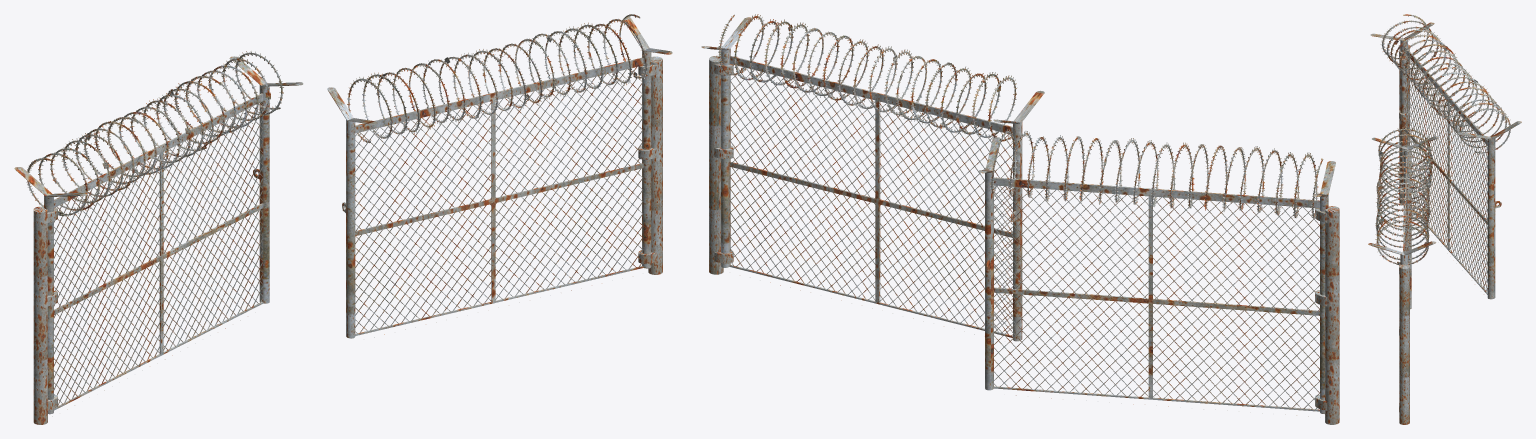
The model's file is military fence gate.obj.
3 views of the same model, side by side, from view 1: azimuth 30°, elevation 25°; view 2: azimuth 150°, elevation 25°; view 3: azimuth 270°, elevation 25° (orthographic). The views are drawn at different scales.
Parts seen in each view (by area): view 1: Cylinder288, Cylinder299, Cylinder233, Cylinder295, Cylinder300, Cylinder291, Spring323, Spring327, Spring324, Spring326, Spring321, Spring325 (+10 smaller); view 2: Cylinder299, Cylinder288, Cylinder233, Cylinder295, Cylinder300, Cylinder291, Spring316, Spring320, Spring318, Spring313, Spring315, Spring319 (+10 smaller); view 3: Cylinder299, Cylinder291, Cylinder300, Cylinder288, Spring325, Spring320, Spring315, Spring326, Spring323, Spring328, Spring324, Spring317 (+40 smaller).
Part boxes in pixels (box(x1,y1,x2,y2)): Cylinder288: box(327, 57, 643, 338); Cylinder299: box(54, 56, 303, 410); Cylinder233: box(355, 17, 672, 268); Cylinder295: box(33, 206, 47, 424); Cylinder300: box(14, 167, 263, 414); Cylinder291: box(648, 56, 662, 274); Spring323: box(83, 117, 157, 185); Spring327: box(54, 132, 130, 203); Spring324: box(162, 81, 236, 148); Spring326: box(185, 65, 259, 134); Spring321: box(106, 106, 181, 175); Spring325: box(209, 51, 283, 121); Cylinder299: box(978, 137, 1319, 411); Cylinder288: box(729, 56, 1044, 341); Cylinder233: box(701, 17, 1012, 267); Cylinder295: box(1325, 206, 1339, 424); Cylinder300: box(994, 161, 1335, 413); Cylinder291: box(709, 55, 723, 274); Spring316: box(895, 56, 957, 124); Spring320: box(718, 14, 780, 80); Spring318: box(925, 63, 987, 133); Spring313: box(822, 38, 884, 105); Spring315: box(792, 28, 854, 97); Spring319: box(753, 19, 820, 88); Cylinder299: box(1404, 46, 1521, 299); Cylinder291: box(1399, 264, 1409, 424); Cylinder300: box(1370, 22, 1487, 224); Cylinder288: box(1372, 136, 1439, 309); Spring325: box(1455, 101, 1510, 153); Spring320: box(1375, 215, 1429, 264); Spring315: box(1376, 186, 1431, 237); Spring326: box(1446, 87, 1504, 139); Spring323: box(1399, 39, 1456, 90); Spring328: box(1380, 14, 1438, 66); Spring324: box(1432, 76, 1489, 127); Spring317: box(1378, 127, 1432, 178).
Bounding box in the file's own units: 30.24 × 12.07 × 8.71.
